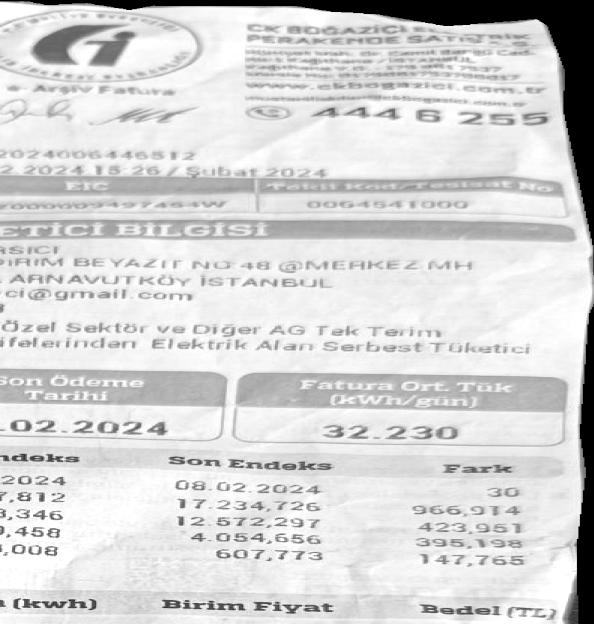electricity-bill: (0, 1, 593, 624)
